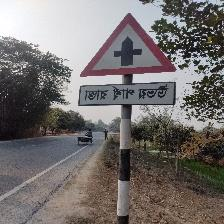Crossroad: (70, 12, 182, 108)
